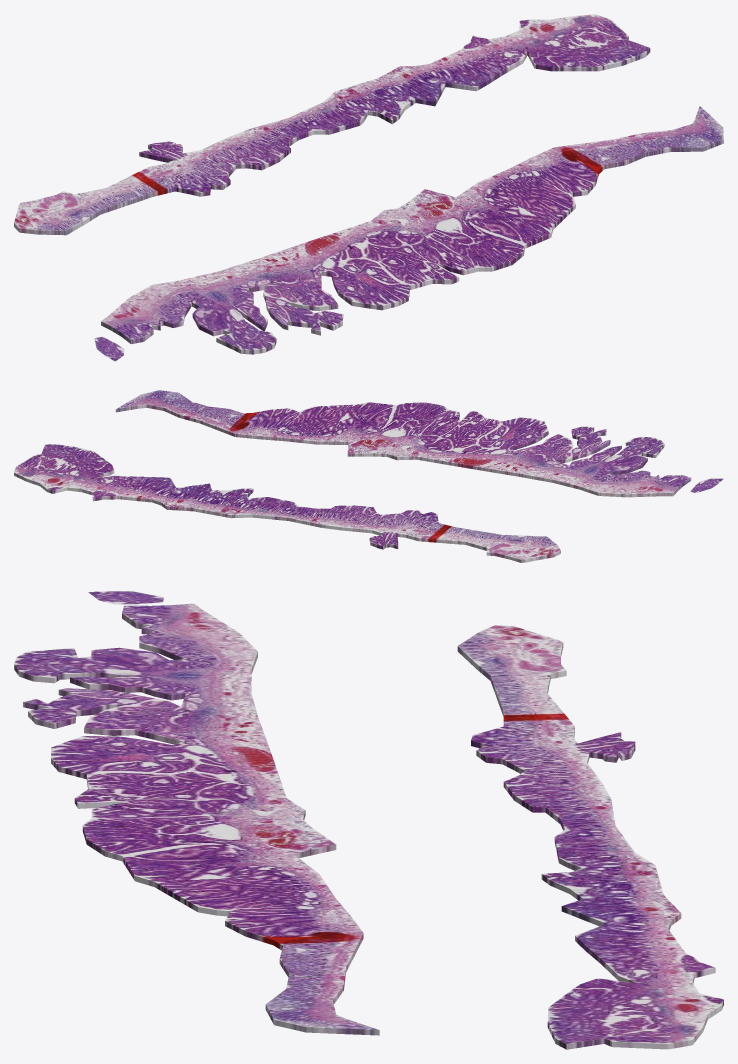
The picture shows the model from 3 angles, top to bottom: view 1: azimuth 30°, elevation 25°; view 2: azimuth 150°, elevation 25°; view 3: azimuth 270°, elevation 25°; orthographic projection. The views are drawn at different scales.
Parts seen in each view (by area): view 1: 平面; view 2: 平面; view 3: 平面.
Boxes of the visible parts, left/top/right/bottom form: 平面: left=14, top=14, right=723, bottom=361; 平面: left=14, top=390, right=723, bottom=562; 平面: left=14, top=591, right=723, bottom=1049.
Size of the model in its own units: 25.35 by 0.14 by 16.58.
1 material, 1 textured.
